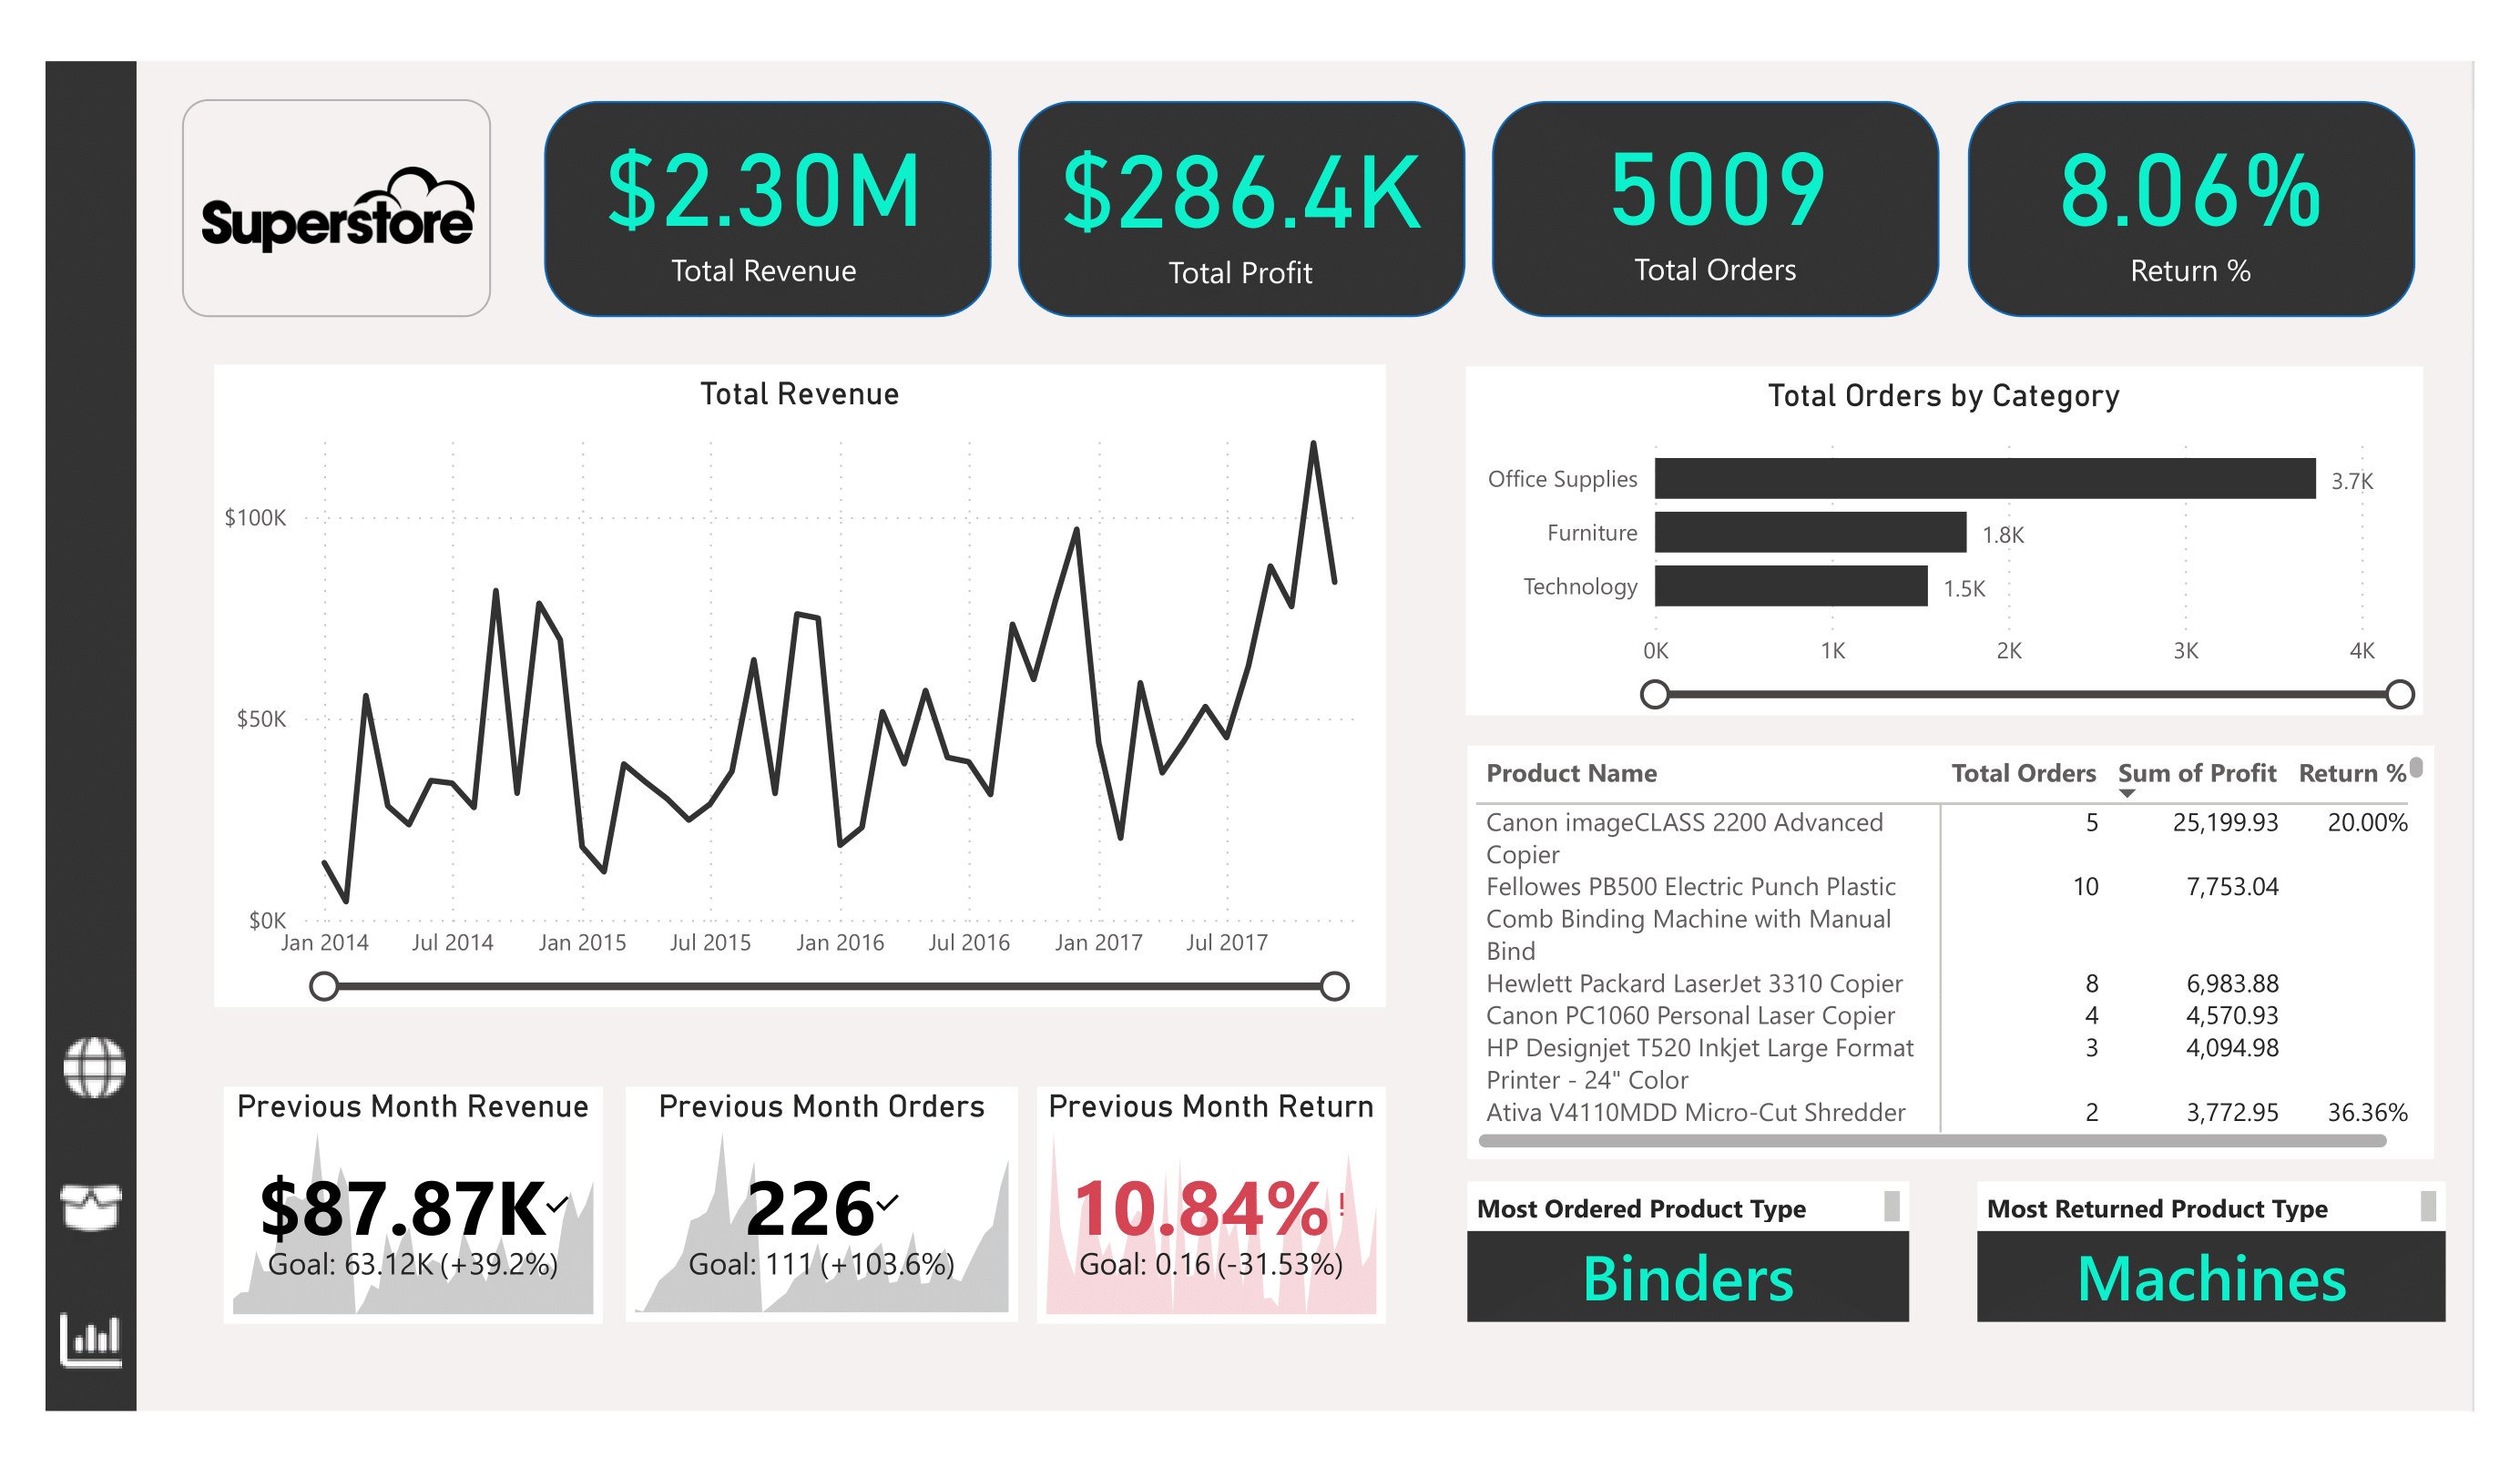

The dashboard page shown, as its layout file describes it:
{"tool":"powerbi","page":{"name":"Exec Dashboard","canvas":[1280,720],"ordinal":0},"visuals":[{"type":"shape","box":[5,7.5,1275,712.5],"z":0},{"type":"shape","box":[1014.3,29,235.7,114.3],"z":1000},{"type":"shape","box":[762.9,29,235.7,114.3],"z":2000},{"type":"shape","box":[512.9,29,235.7,114.3],"z":3000},{"type":"shape","box":[262.9,29,235.7,114.3],"z":4000},{"type":"card","fields":{"Values":["Measures (3).Total Revenue"]},"box":[273.9,29,210,101.4],"z":5000},{"type":"card","fields":{"Values":["Measures (3).Total Profit"]},"box":[513.9,29,232.9,102.9],"z":6000},{"type":"card","fields":{"Values":["Measures (3).Total Orders"]},"box":[795.3,27.6,171.4,102.9],"z":7000},{"type":"card","fields":{"Values":["Measures (3).Return %"]},"box":[1025.3,29,212.9,101.4],"z":8000},{"type":"clusteredBarChart","fields":{"Category":["Orders.Category"],"Y":["Measures (3).Total Orders"]},"box":[748.6,168.6,505.7,184.3],"z":9000},{"type":"pivotTable","fields":{"Rows":["Orders.Product Name"],"Values":["Measures (3).Total Orders","Sum(Orders.Profit)","Measures (3).Return %"]},"box":[750,368.6,510,218.6],"z":10000},{"type":"lineChart","title":"Total Revenue","fields":{"Y":["Measures (3).Total Revenue"],"Category":["Calendar2.Date2.Variation.Date Hierarchy.Year","Calendar2.Date2.Variation.Date Hierarchy.Quarter","Calendar2.Date2.Variation.Date Hierarchy.Month","Calendar2.Date2.Variation.Date Hierarchy.Day"]},"box":[89.1,168.2,618.2,339.1],"z":11000},{"type":"kpi","title":"Previous Month Revenue","fields":{"Indicator":["Measures (3).Total Revenue"],"TrendLine":["Calendar2.Start of Month"],"Goal":["Measures (3).Previous Month Revenue"]},"box":[94.3,548.6,199.3,125],"z":12000},{"type":"kpi","title":"Previous Month Orders ","fields":{"TrendLine":["Calendar2.Start of Month"],"Goal":["Measures (3).Previous Month Orders"],"Indicator":["Measures (3).Total Orders"]},"box":[305.7,548.6,207.1,124.3],"z":13000},{"type":"kpi","title":"Previous Month Return","fields":{"TrendLine":["Calendar2.Start of Month"],"Indicator":["Measures (3).Return %"],"Goal":["Measures (3).Previous Month Return"]},"box":[523.3,548.9,183.3,125.6],"z":14000},{"type":"card","fields":{"Values":["Min(Orders.Sub-Category)"]},"box":[750,624.9,232.9,48.6],"z":15000},{"type":"card","fields":{"Values":["Min(Orders.Sub-Category)"]},"box":[1018.6,624.9,247.1,48.6],"z":16000},{"type":"textbox","box":[750,599.2,232.9,25.7],"z":17000},{"type":"textbox","box":[1018.6,599.2,247.1,25.7],"z":18000},{"type":"image","box":[71.7,28.3,163.3,115],"z":19000},{"type":"shape","box":[0,8.3,48.3,711.7],"z":20000},{"type":"actionButton","box":[4.2,663.3,53.3,40],"z":21000},{"type":"actionButton","box":[5.6,518.9,53.3,40],"z":22000},{"type":"actionButton","box":[4.4,593.3,53.3,40],"z":23000}]}

Visuals, with their boxes on the page's 1280x720 design canvas (x1, y1, x2, y2). These are canvas units, not pixel positions in the 2520x1457 screenshot, which may show the page scaled, cropped or inside an application window:
shape: <bbox>5, 8, 1280, 720</bbox>
shape: <bbox>1014, 29, 1250, 143</bbox>
shape: <bbox>763, 29, 999, 143</bbox>
shape: <bbox>513, 29, 749, 143</bbox>
shape: <bbox>263, 29, 499, 143</bbox>
card - Measures (3).Total Revenue: <bbox>274, 29, 484, 130</bbox>
card - Measures (3).Total Profit: <bbox>514, 29, 747, 132</bbox>
card - Measures (3).Total Orders: <bbox>795, 28, 967, 130</bbox>
card - Measures (3).Return %: <bbox>1025, 29, 1238, 130</bbox>
clusteredBarChart - Orders.Category x Measures (3).Total Orders: <bbox>749, 169, 1254, 353</bbox>
pivotTable - Orders.Product Name x Measures (3).Total Orders: <bbox>750, 369, 1260, 587</bbox>
"Total Revenue" lineChart: <bbox>89, 168, 707, 507</bbox>
"Previous Month Revenue" kpi: <bbox>94, 549, 294, 674</bbox>
"Previous Month Orders " kpi: <bbox>306, 549, 513, 673</bbox>
"Previous Month Return" kpi: <bbox>523, 549, 707, 674</bbox>
card - Min(Orders.Sub-Category): <bbox>750, 625, 983, 674</bbox>
card - Min(Orders.Sub-Category): <bbox>1019, 625, 1266, 674</bbox>
textbox: <bbox>750, 599, 983, 625</bbox>
textbox: <bbox>1019, 599, 1266, 625</bbox>
image: <bbox>72, 28, 235, 143</bbox>
shape: <bbox>0, 8, 48, 720</bbox>
actionButton: <bbox>4, 663, 58, 703</bbox>
actionButton: <bbox>6, 519, 59, 559</bbox>
actionButton: <bbox>4, 593, 58, 633</bbox>
